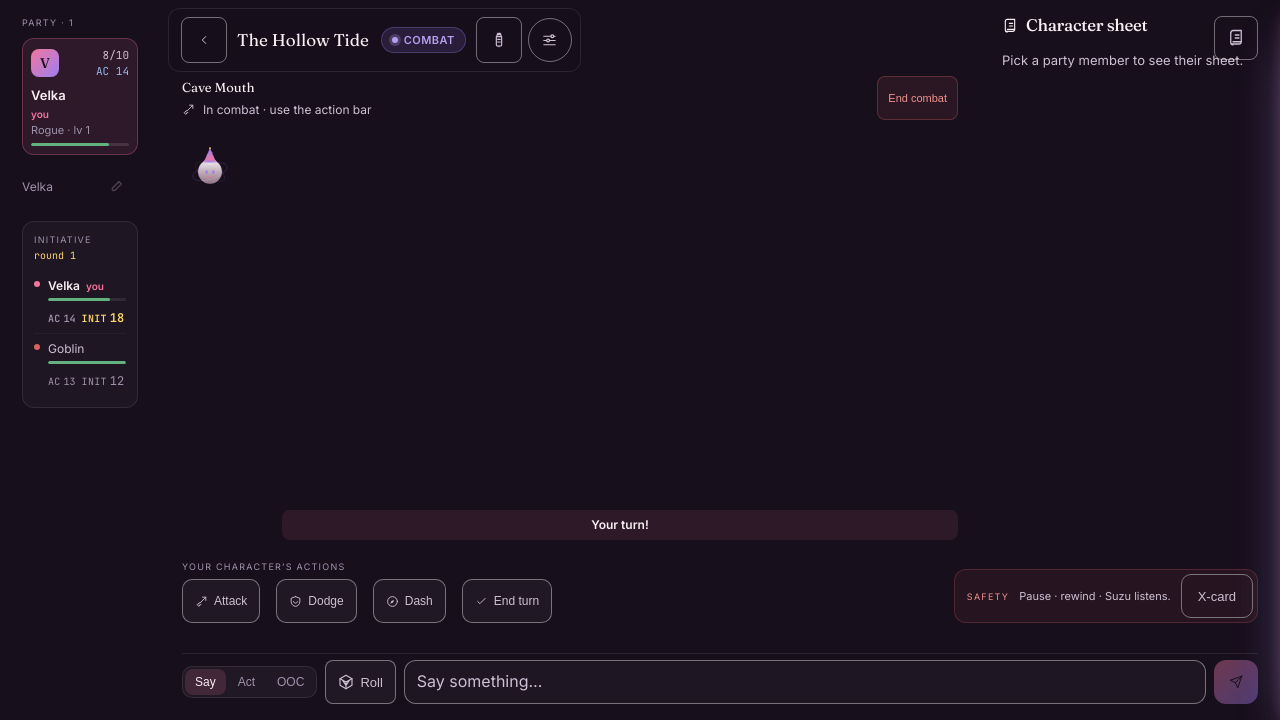
Test: CUI-11 — refused action surfaces reason › engine target_down → shows "already down" reason
The width and height of the screenshot is (1280, 720).
Expected: the text "The Hollow Tide" is shown, [237, 27, 369, 53]
Click the button "Attack" at x=221, y=601, box [182, 579, 260, 623]
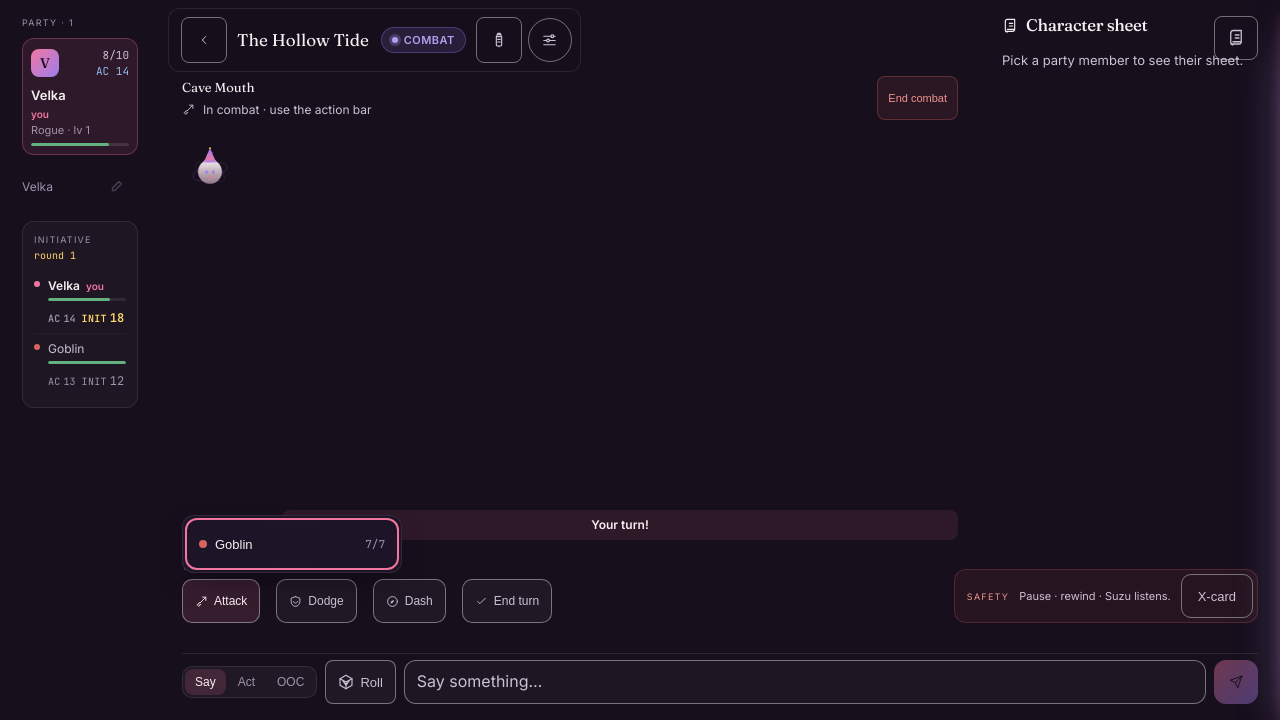
Expected: the menu is shown, [182, 515, 402, 573]
Click the menu item "Goblin 7/7" at x=292, y=544, box [189, 522, 395, 566]
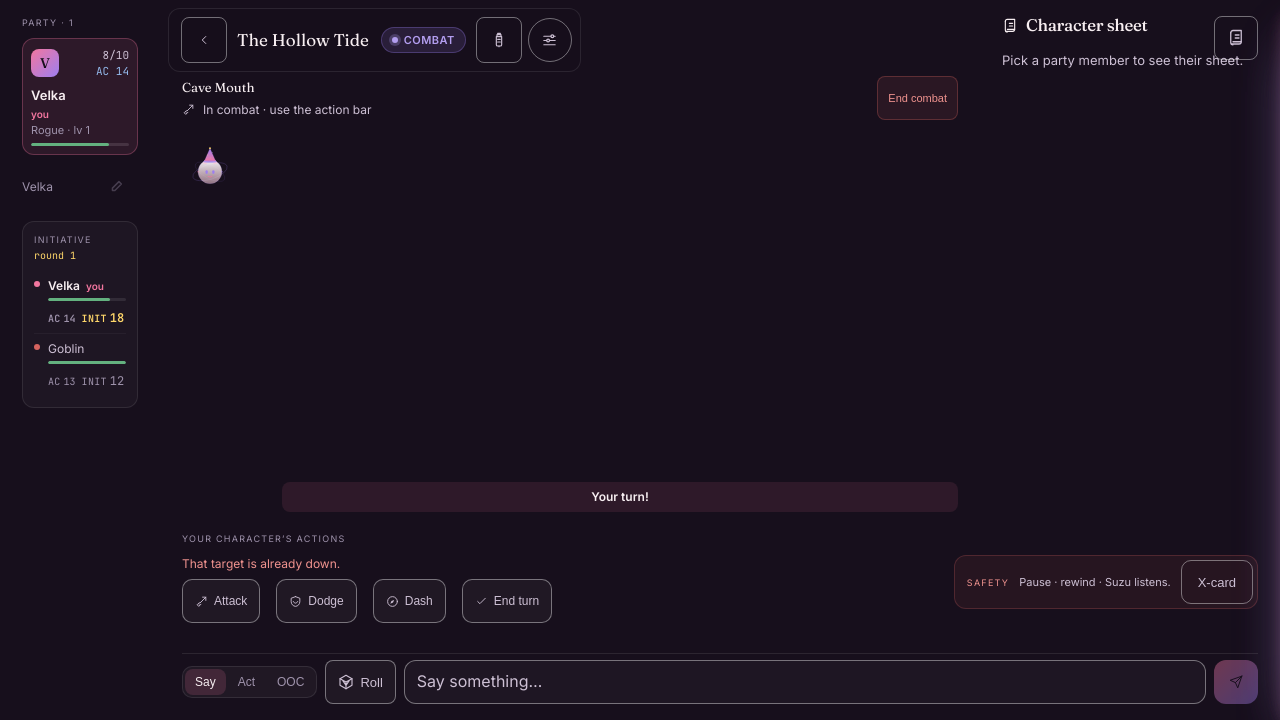
Expected: the text "That target is already down." is shown, [182, 556, 340, 571]
